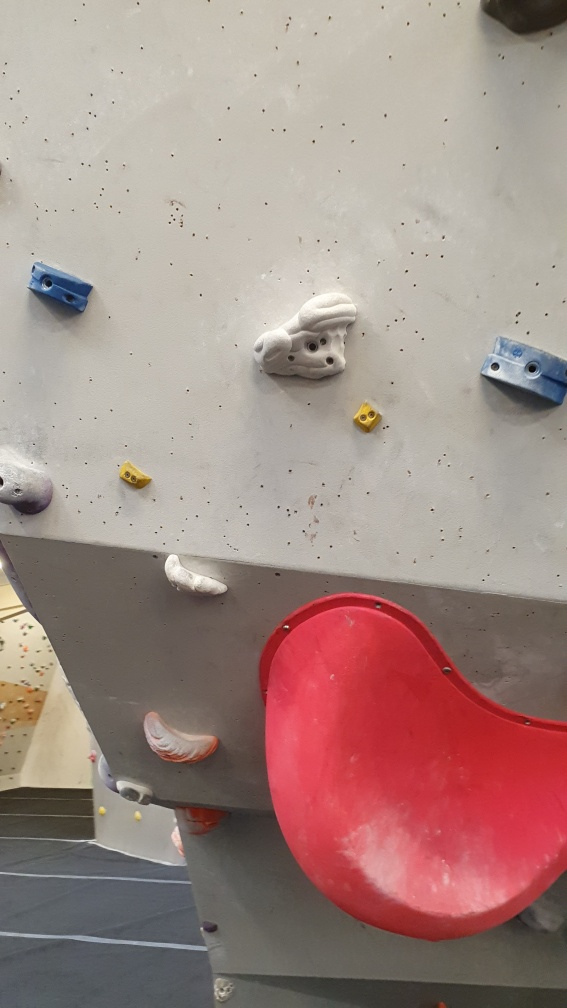Crimp: (116, 453, 158, 492)
Jug: (251, 289, 365, 390), (138, 706, 223, 767), (156, 547, 233, 605)
Pinch: (478, 332, 567, 406), (27, 259, 97, 319), (347, 396, 391, 437)
